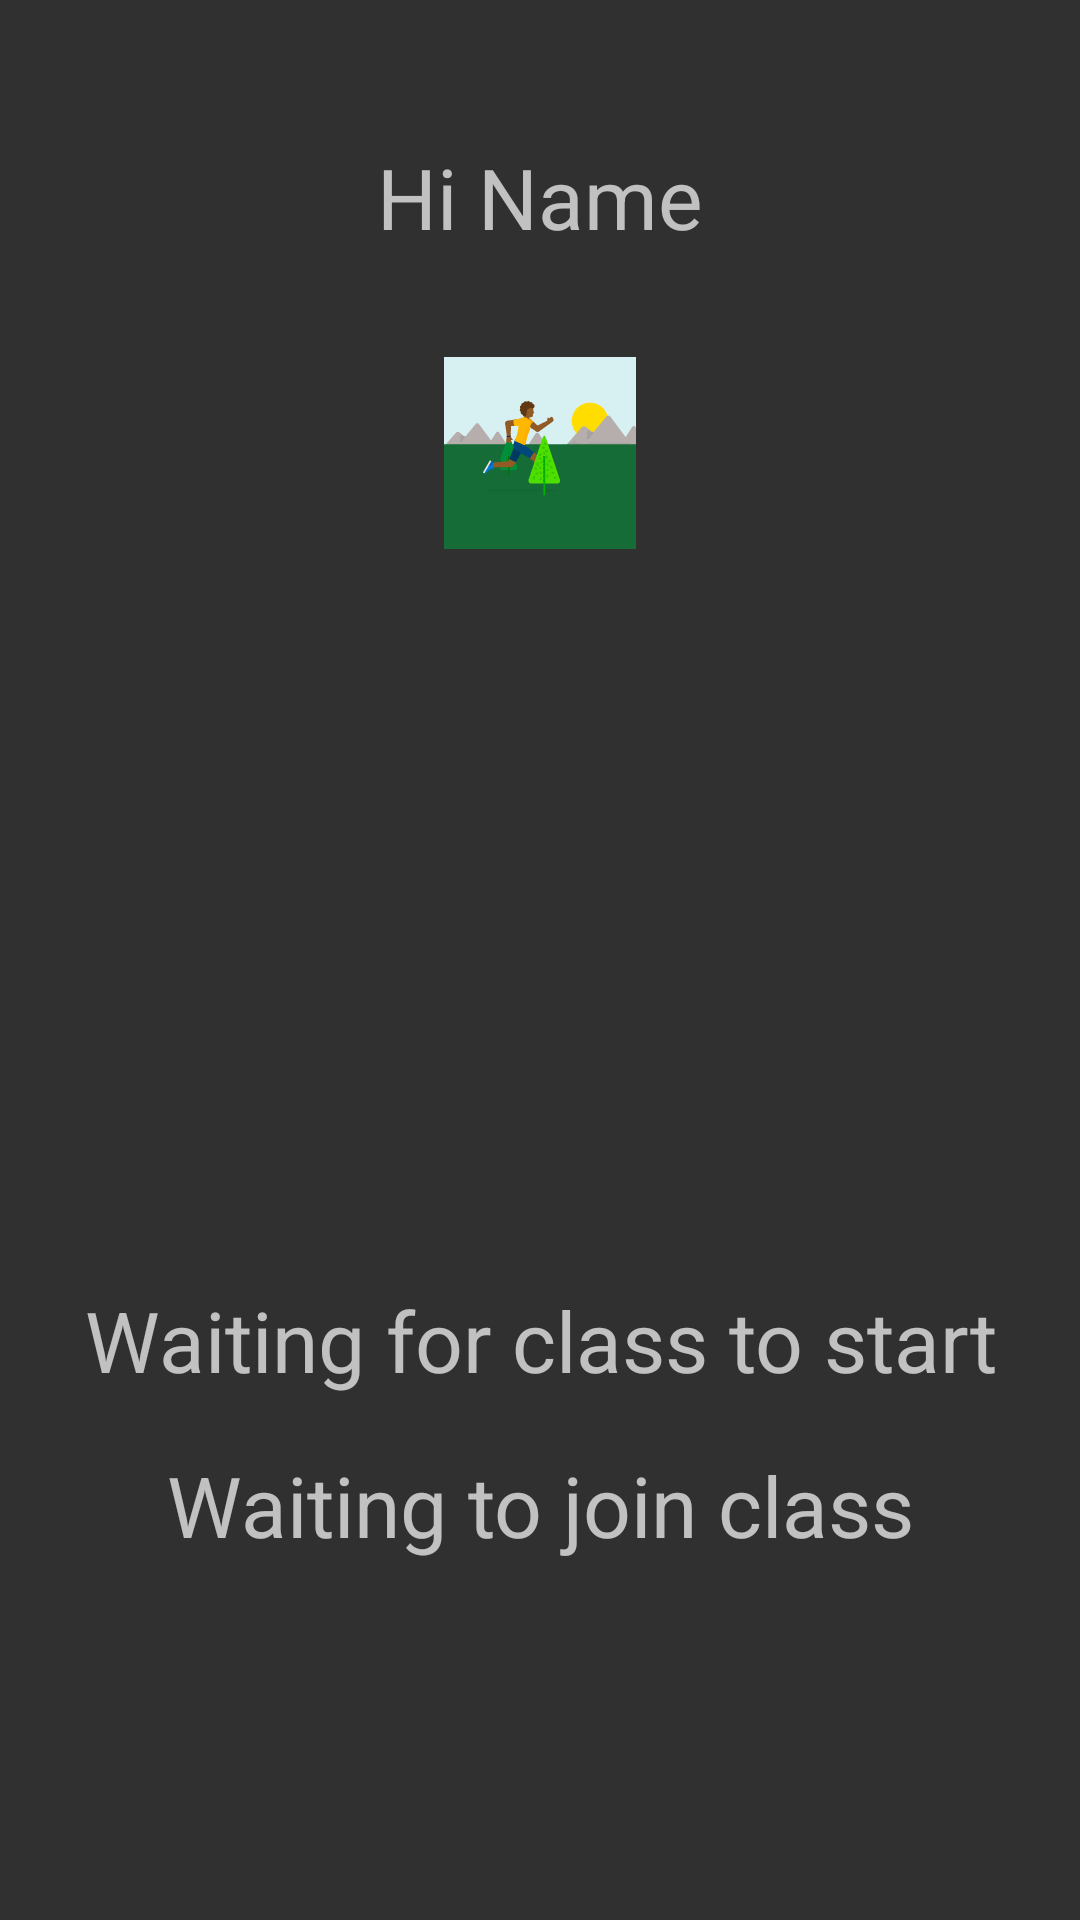

Where to tap for icons on this 1080 x 1920 app screen, as (x,y):
running: (540,453)
